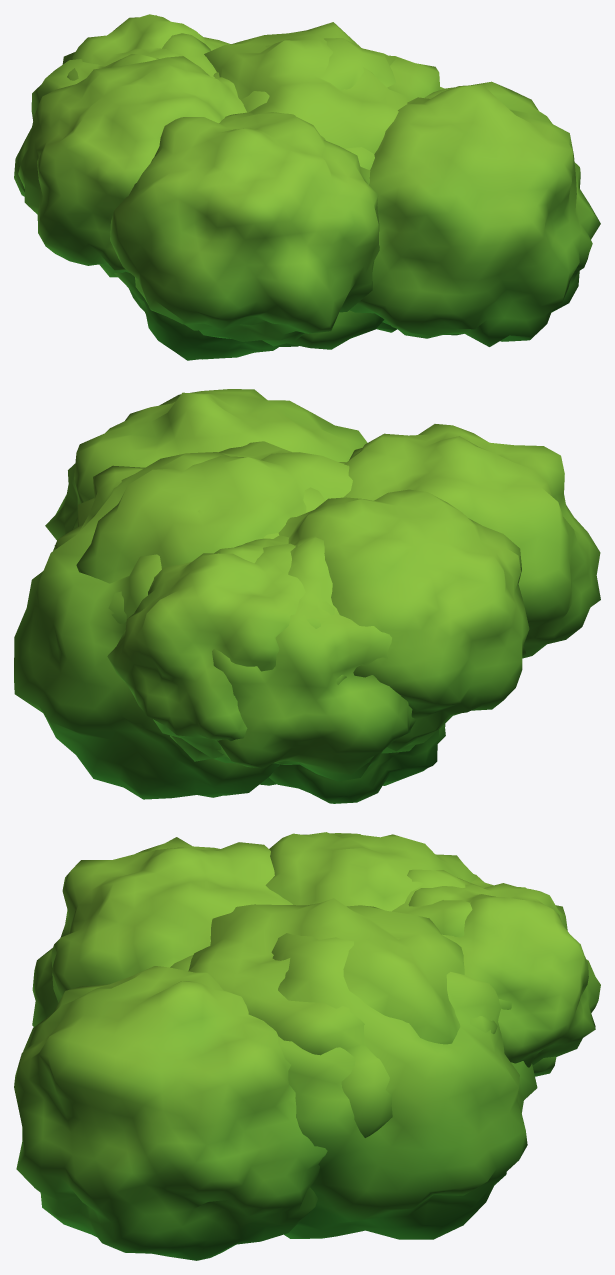
Rendered from bush_a.glb.
The picture shows the model from 3 angles, top to bottom: view 1: azimuth 30°, elevation 25°; view 2: azimuth 150°, elevation 25°; view 3: azimuth 270°, elevation 25°; orthographic projection. The views are drawn at different scales.
Visible parts, largest first — view 1: bush_a; view 2: bush_a; view 3: bush_a.
Part boxes in pixels (x1,y1,x2,y2): bush_a: [14, 14, 600, 360]; bush_a: [14, 389, 600, 803]; bush_a: [14, 832, 600, 1260].
Bounding box in the file's own units: 2.31 × 1.36 × 2.28.
